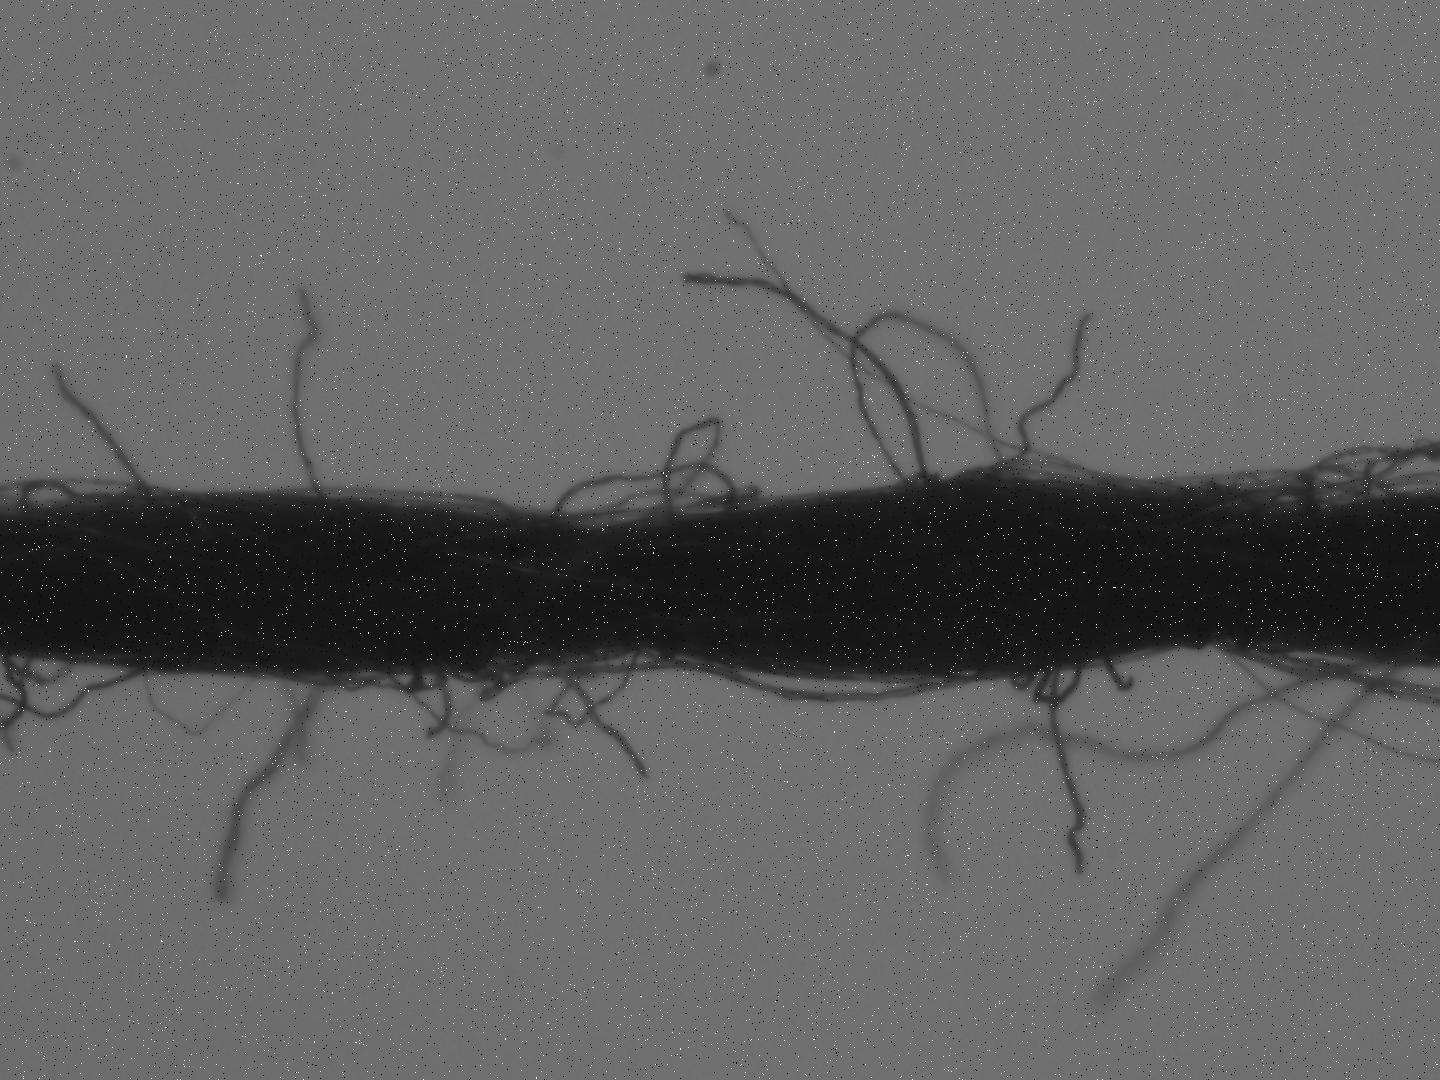loop_fiber: (848, 309, 1020, 490), (544, 462, 739, 534), (139, 667, 268, 741), (288, 659, 449, 698), (1296, 459, 1406, 515), (1013, 657, 1089, 716), (22, 479, 143, 515), (1, 649, 77, 691)
protruding_fiber: (289, 284, 334, 506), (1044, 659, 1089, 883)
